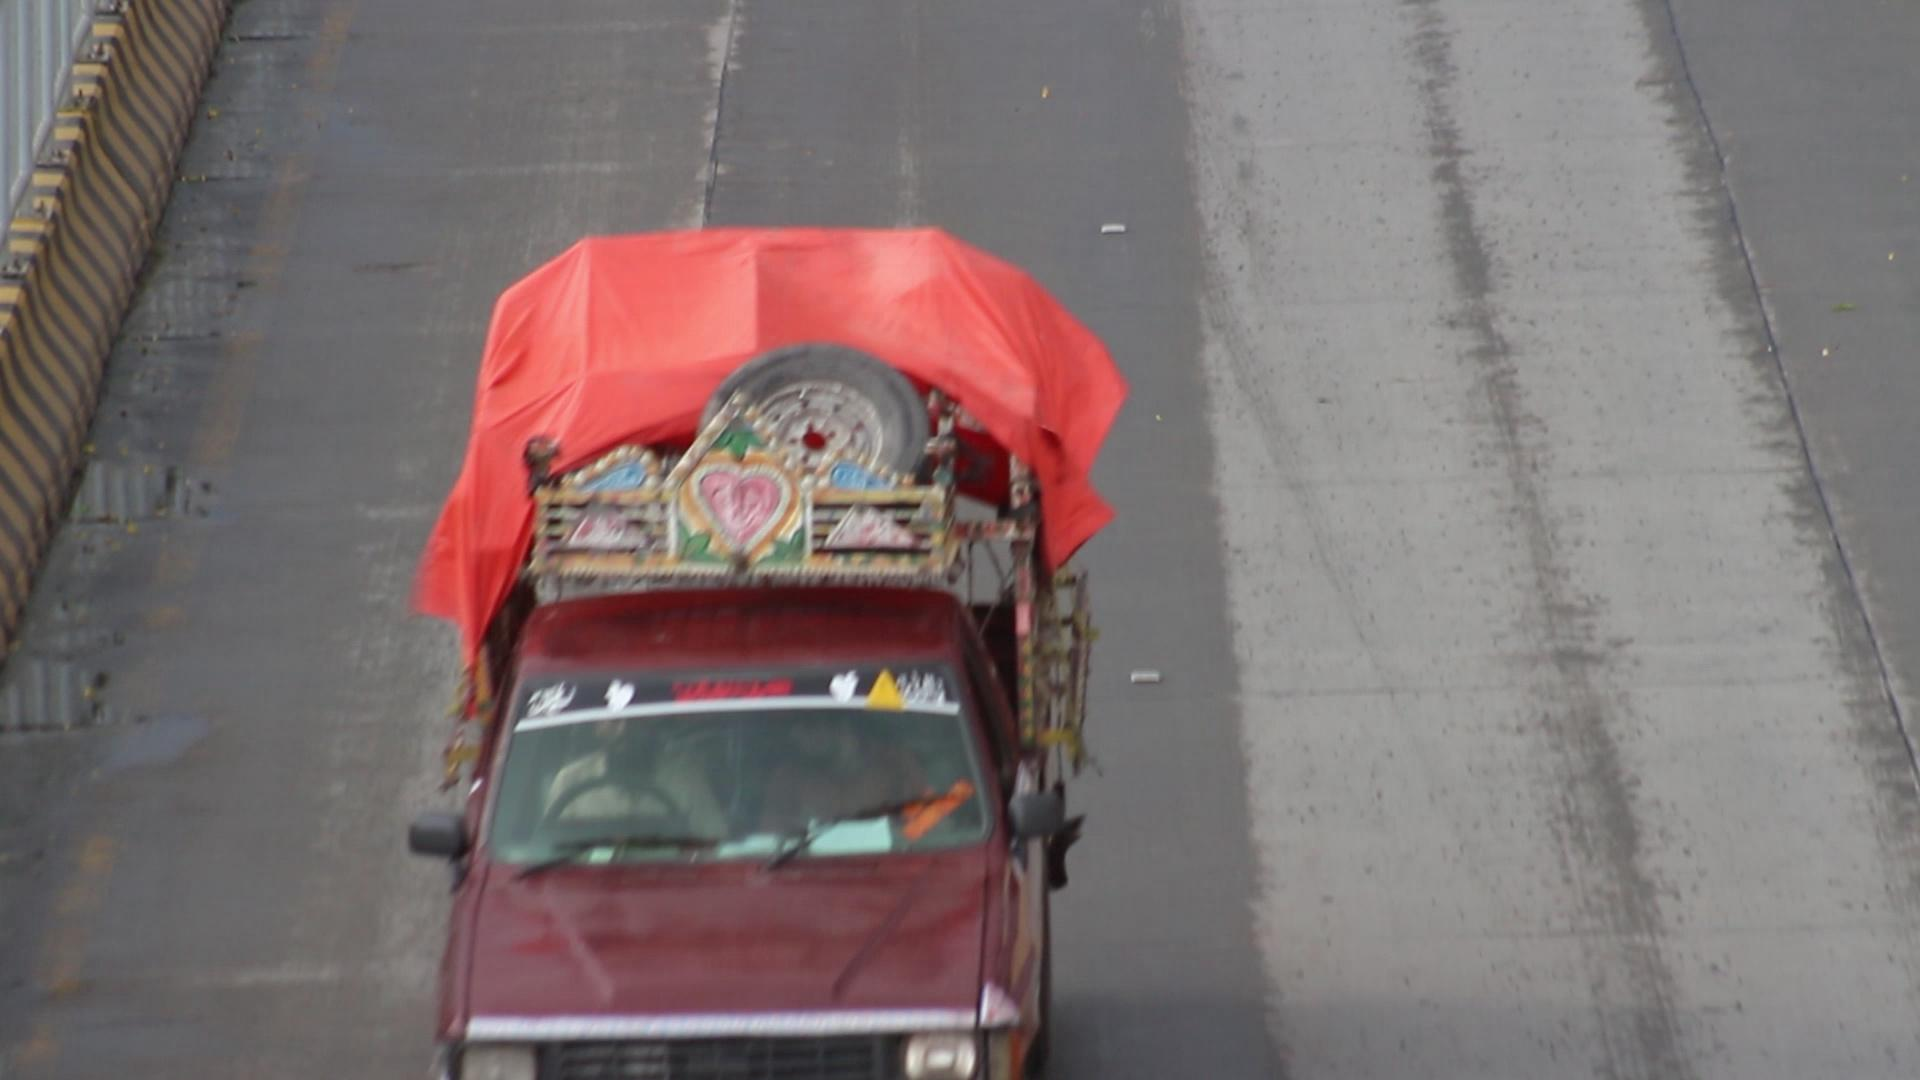windshield: (467, 646, 1004, 857)
